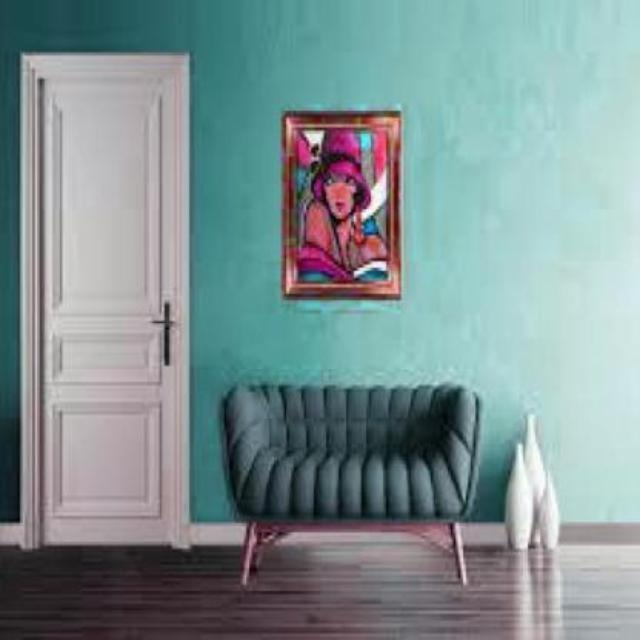door: (24, 51, 190, 549)
